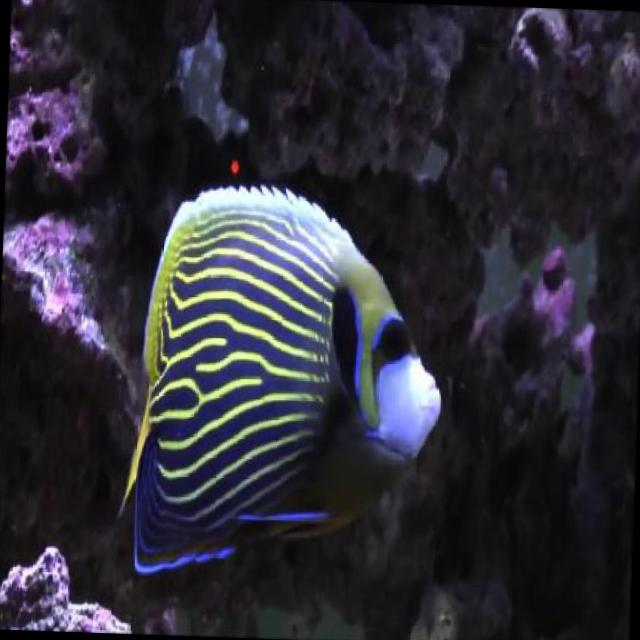AngelFish: (120, 183, 449, 580)
